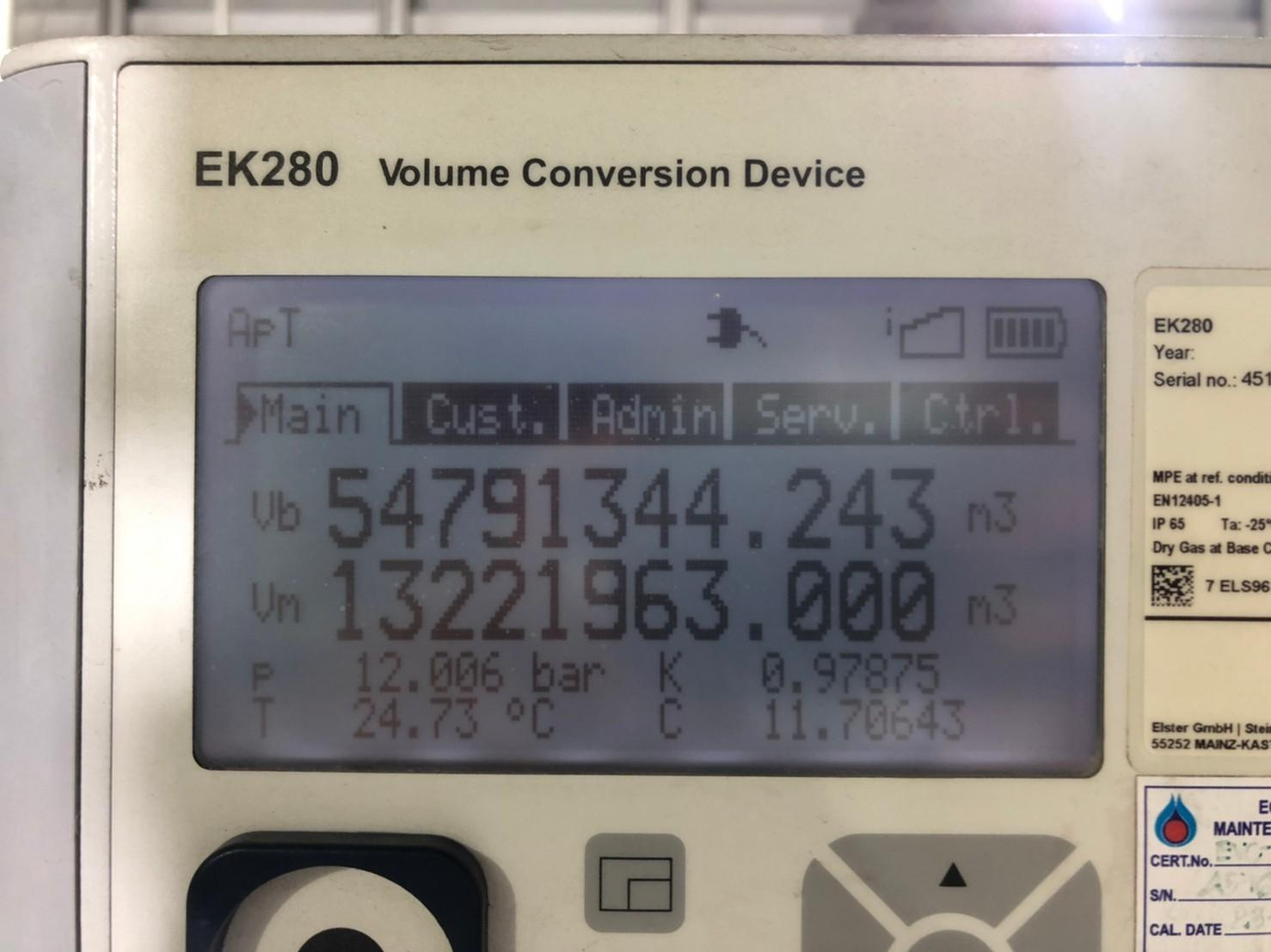digital_screen: (196, 276, 1106, 773)
